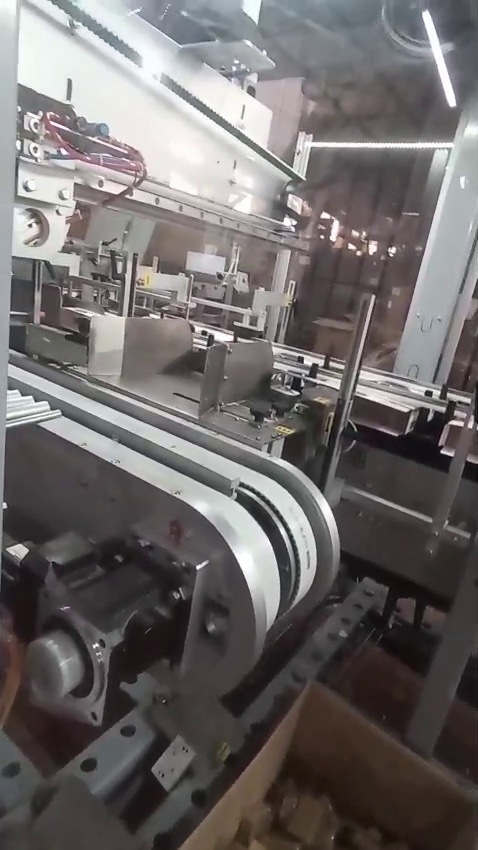savon: (177, 682, 478, 850), (0, 682, 16, 736), (313, 399, 335, 432), (452, 823, 478, 850), (354, 828, 381, 850), (212, 736, 230, 768), (384, 321, 400, 341), (276, 424, 297, 438)
